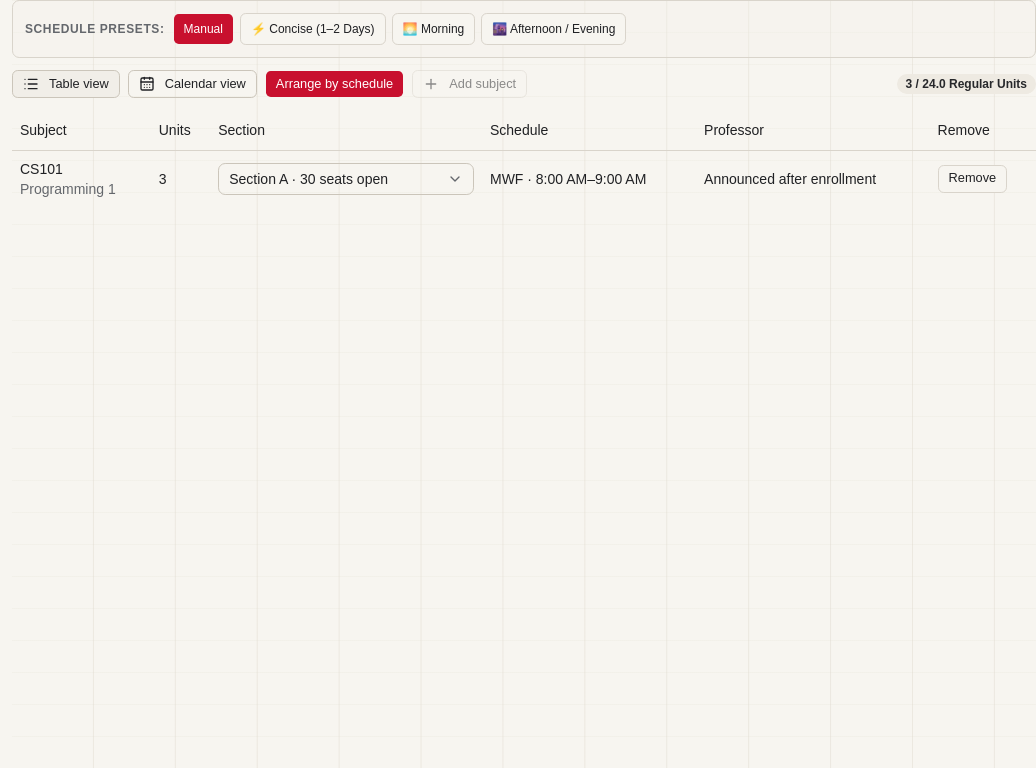
EligibleSubjectTable › removes a subject from view and clears its selection
This screenshot has width=1036, height=768.
Click the button with aria-label "Remove CS101". click: (972, 178)
box: [938,164,1007,192]
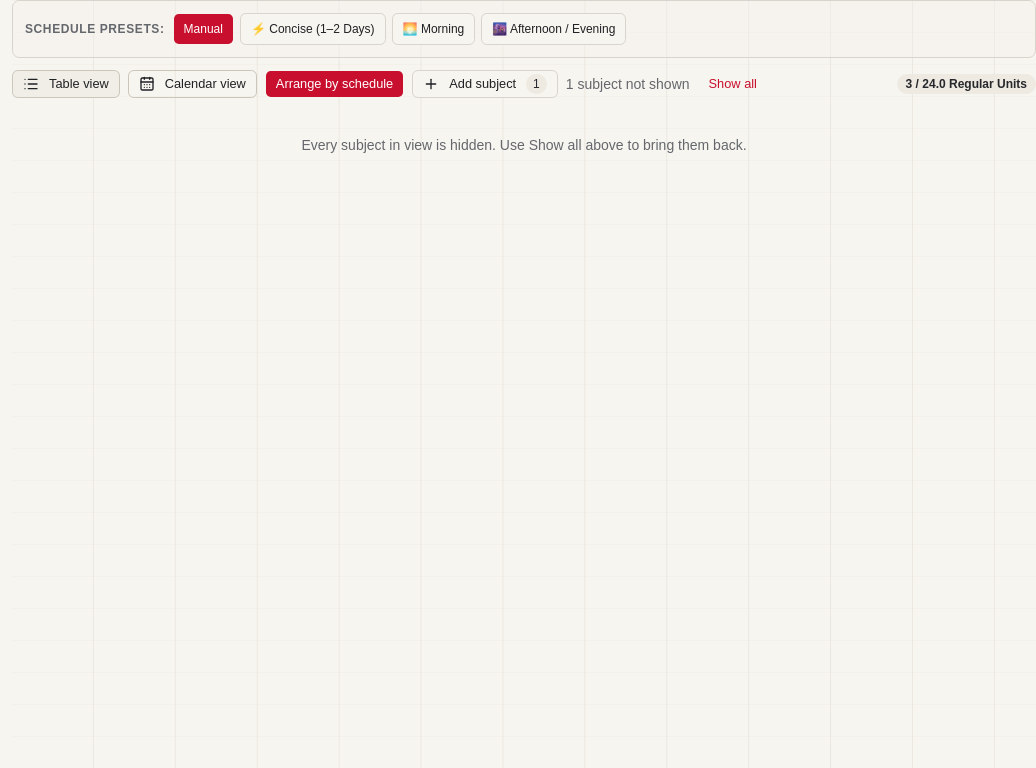
Result: the text "CS101" is gone
Result: the text "1 subject not shown" is shown at [566,74,690,94]
